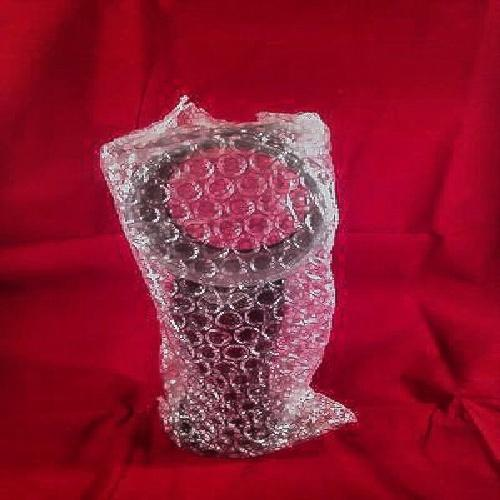fan: (106, 118, 365, 443)
